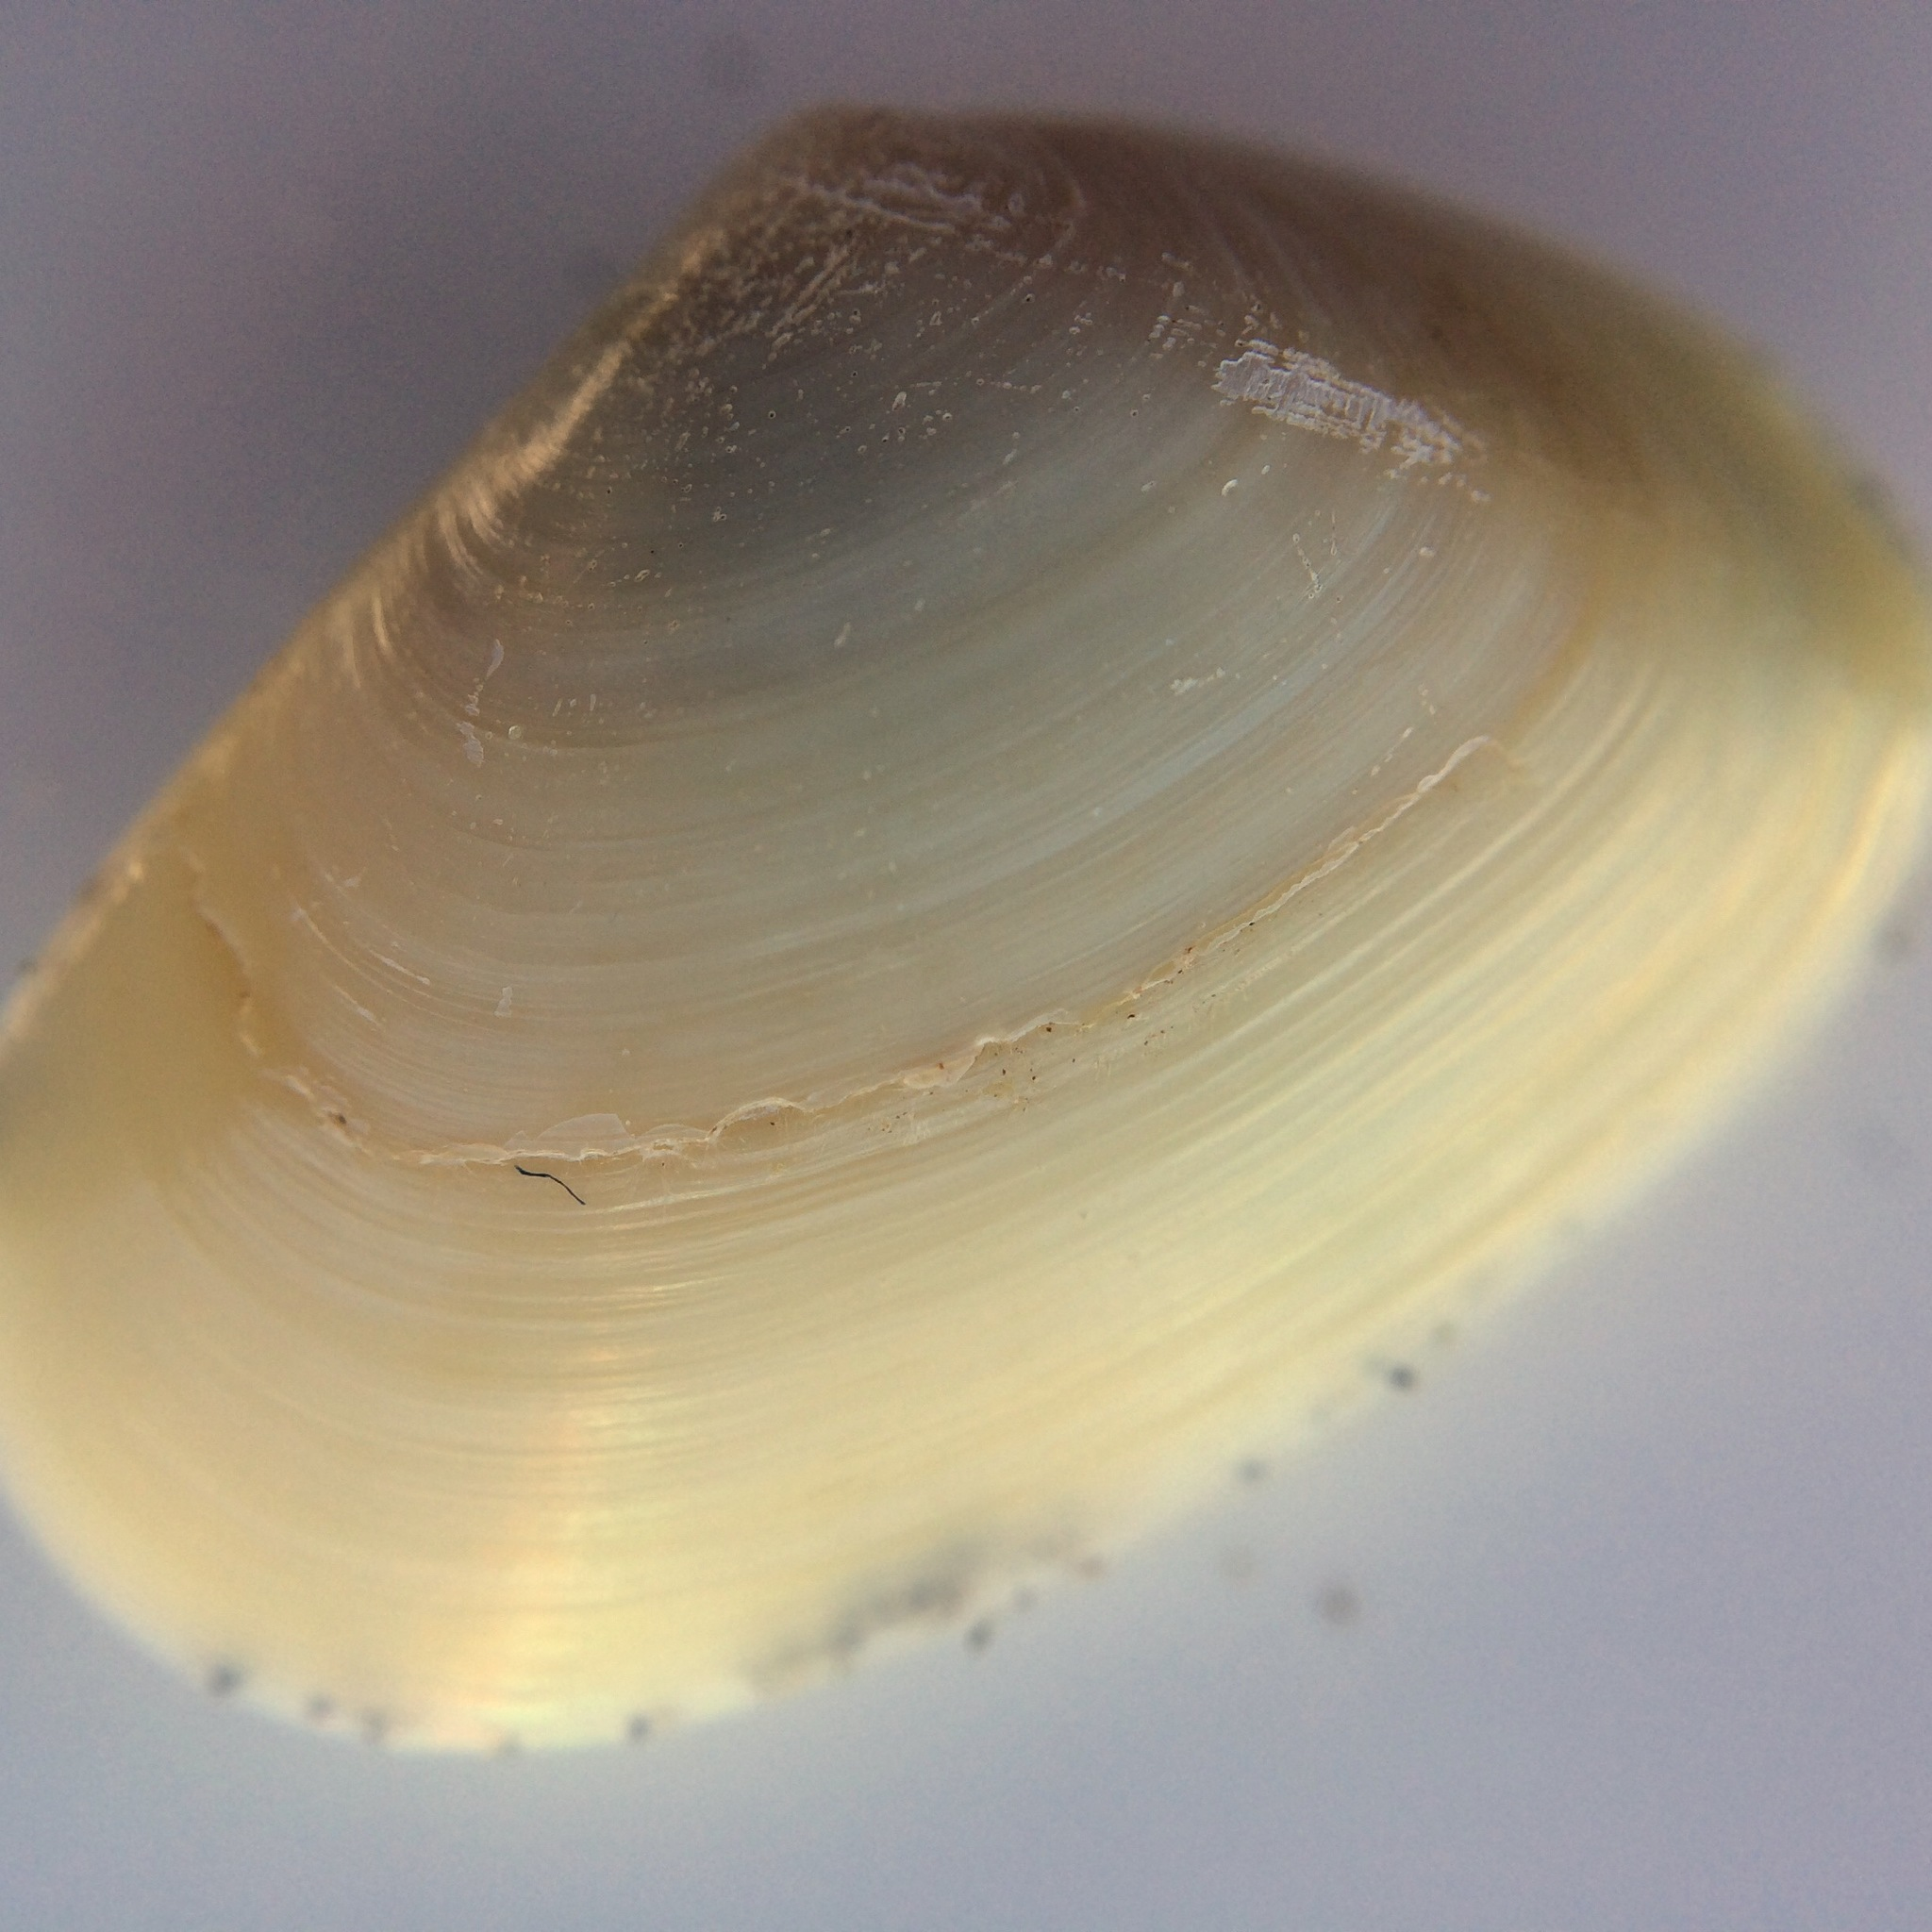tuatua: (23, 90, 1927, 1767)
